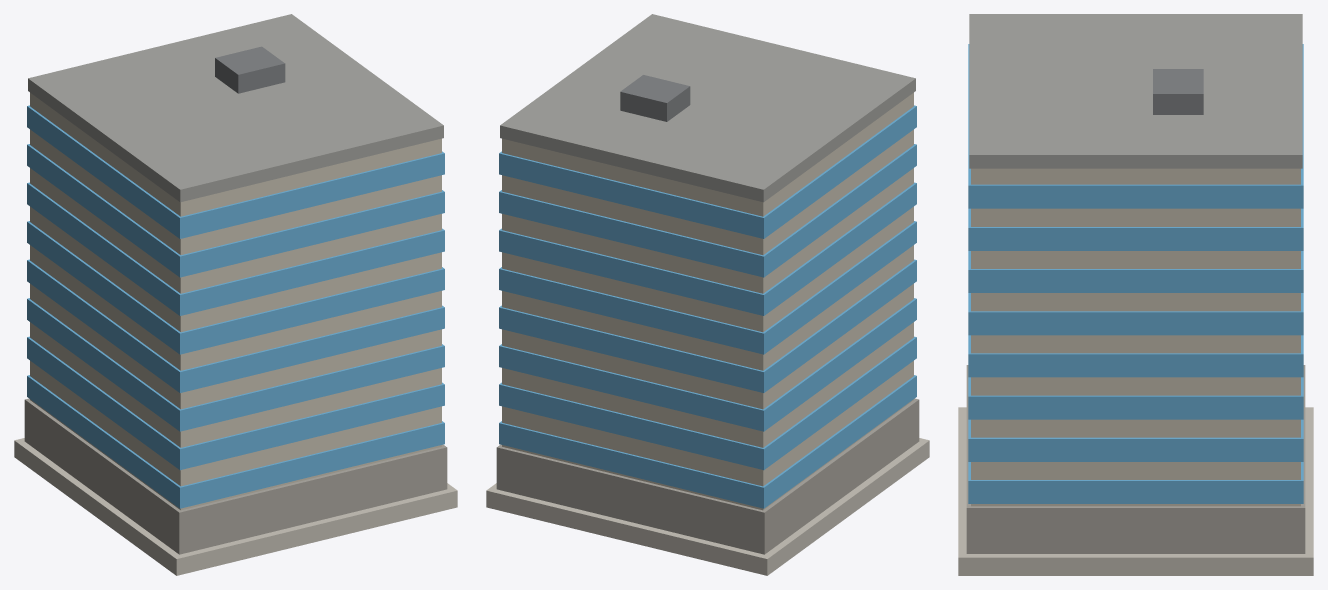
Rendered from com_escritorio_medio.glb.
3 renders of one model, left to right at view 1: azimuth 30°, elevation 25°; view 2: azimuth 150°, elevation 25°; view 3: azimuth 270°, elevation 25°, orthographic. The views are drawn at different scales.
Parts seen in each view (by area): view 1: com_escritorio_medio; view 2: com_escritorio_medio; view 3: com_escritorio_medio.
Boxes of the visible parts, box(x1,y1,x2,y2) form: com_escritorio_medio: box(14, 14, 457, 575); com_escritorio_medio: box(486, 14, 929, 575); com_escritorio_medio: box(958, 14, 1313, 575).
Bounding box in the file's own units: 0.42 × 0.57 × 0.42.
